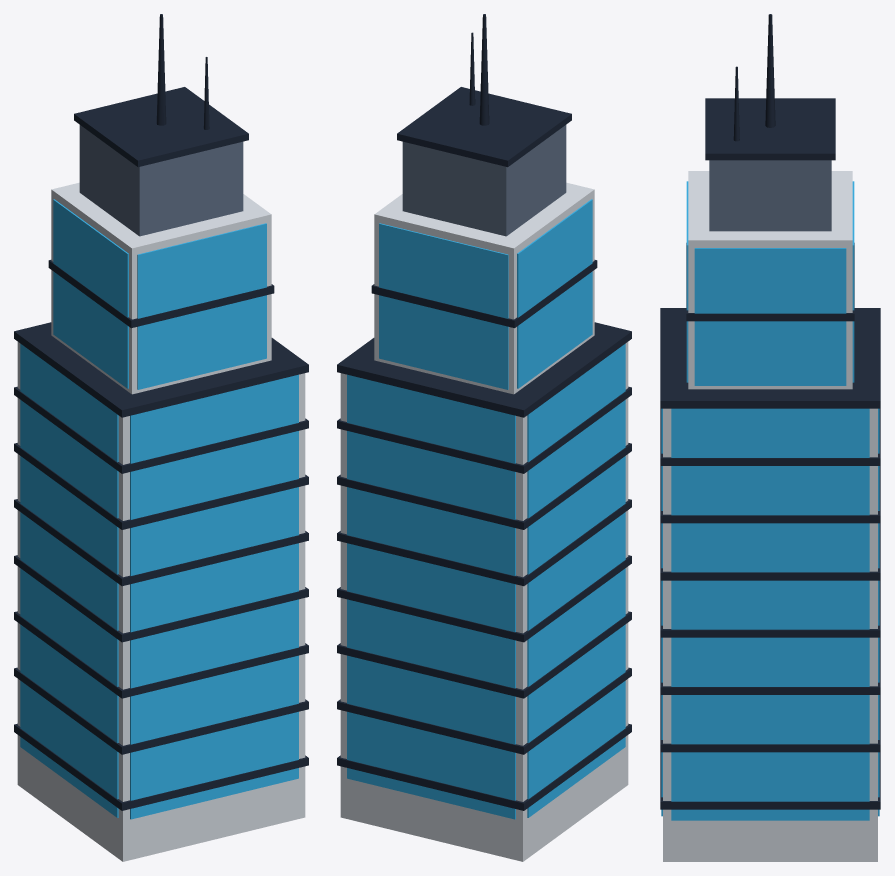
File: skyscraper2.glb
3 views of the same model, side by side, from view 1: azimuth 30°, elevation 25°; view 2: azimuth 150°, elevation 25°; view 3: azimuth 270°, elevation 25° (orthographic).
Visible parts, largest first — view 1: Tower_Glass, Tower_Trim, Tower_Concrete, Tower_Roof; view 2: Tower_Glass, Tower_Trim, Tower_Concrete, Tower_Roof; view 3: Tower_Glass, Tower_Trim, Tower_Concrete, Tower_Roof.
Part boxes in pixels (x1,y1,x2,y2): Tower_Glass: (20,199,298,819); Tower_Trim: (14,14,308,810); Tower_Concrete: (17,182,305,861); Tower_Roof: (79,125,243,236); Tower_Glass: (347,199,625,819); Tower_Trim: (337,14,631,810); Tower_Concrete: (340,182,628,861); Tower_Roof: (402,125,566,236); Tower_Glass: (661,181,879,820); Tower_Trim: (660,14,880,809); Tower_Concrete: (663,171,877,861); Tower_Roof: (709,160,831,231).
Size of the model in its own units: 10.45 by 42 by 10.45.
